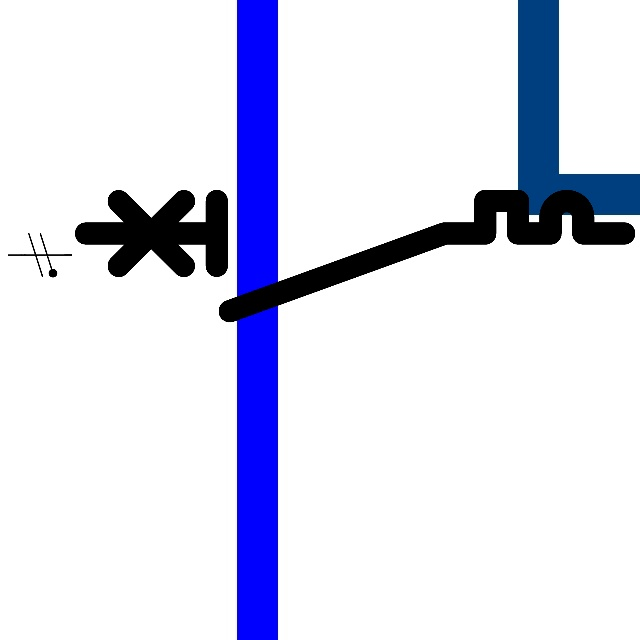interruptor_termomagnetico: (72, 187, 638, 325)
